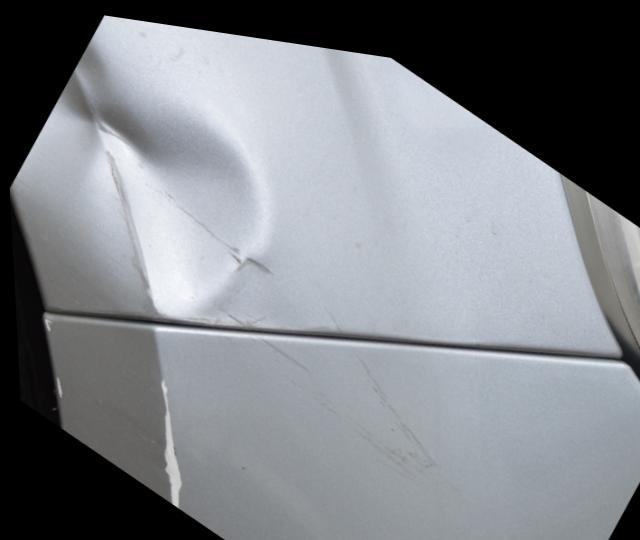dent: (10, 38, 259, 312)
scratch: (150, 372, 181, 509)
